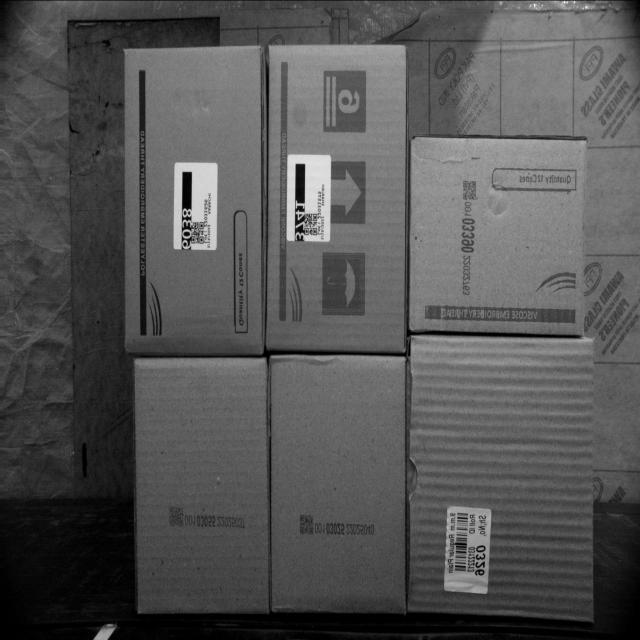cardboxes: (410, 340, 591, 617), (122, 46, 266, 355), (264, 41, 407, 352), (130, 358, 269, 614), (268, 355, 406, 612), (410, 138, 582, 335)
